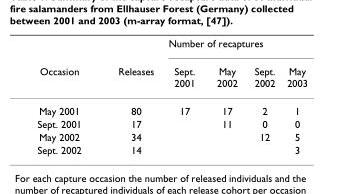table: (36, 36, 306, 155)
table column: (36, 36, 99, 155), (99, 36, 160, 155), (160, 36, 205, 155), (205, 36, 245, 155), (245, 36, 280, 155), (280, 36, 306, 155)
table column header: (36, 36, 306, 96)
table row: (36, 56, 306, 96), (36, 96, 306, 117), (36, 36, 306, 56), (36, 129, 306, 142), (36, 142, 306, 155), (36, 117, 306, 129)
table spanning cell: (36, 36, 99, 96), (99, 36, 160, 96), (160, 36, 306, 56)
